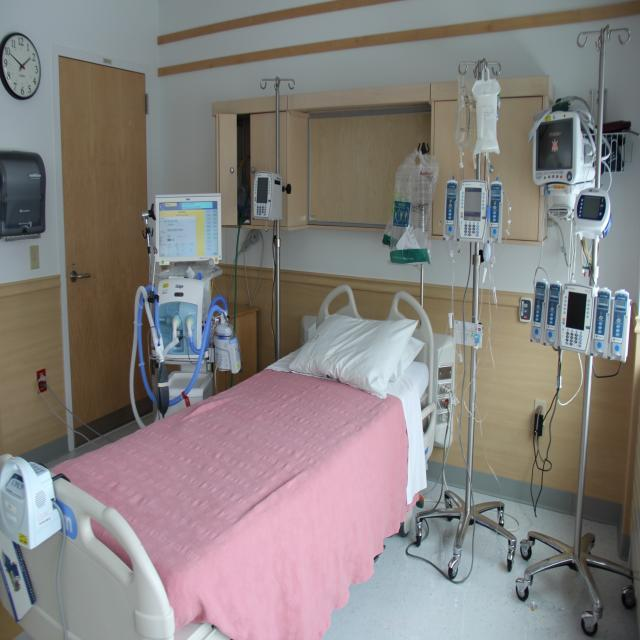iv_fluids: (442, 65, 509, 273)
patient_bed: (108, 300, 455, 639)
ventilator: (549, 97, 637, 439)
